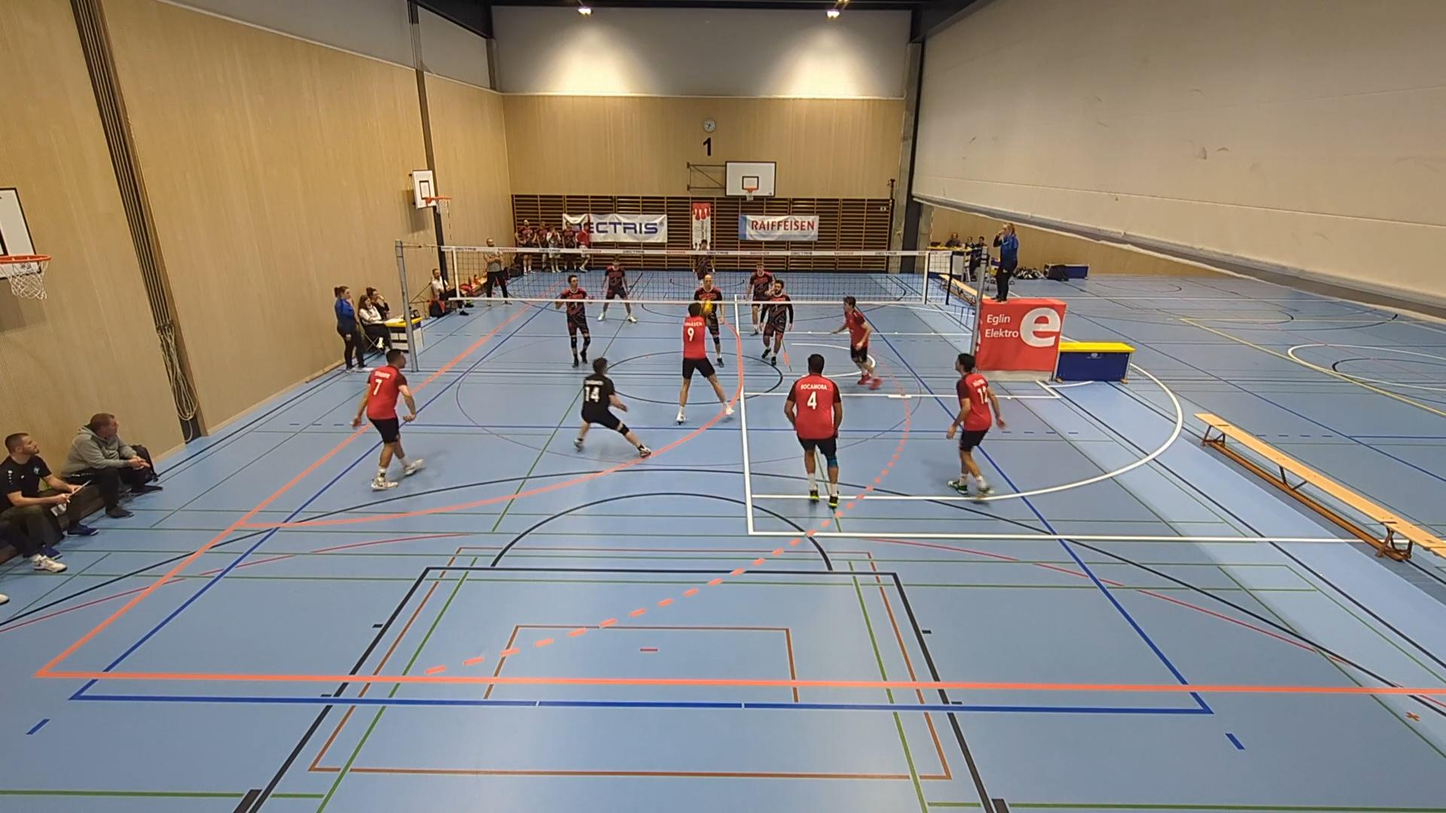Player: (352, 349, 423, 490), (784, 354, 842, 507), (947, 354, 1006, 498), (575, 358, 651, 457), (832, 296, 880, 388), (554, 275, 590, 367), (761, 280, 794, 365), (694, 274, 724, 367), (598, 264, 637, 322), (749, 260, 773, 334), (692, 240, 713, 280)
Receive: (677, 295, 734, 428)
ball: (701, 298, 718, 313)
